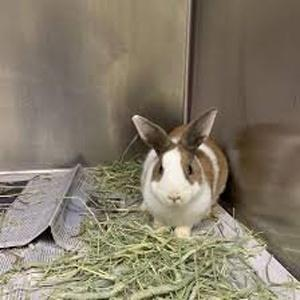rabbit: (132, 109, 229, 237)
